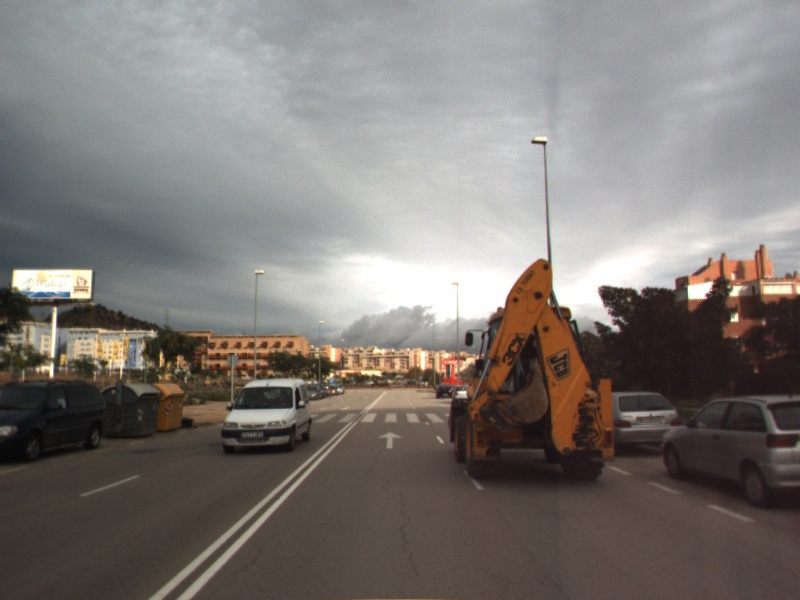STRAIGHT: (376, 429, 405, 451)
